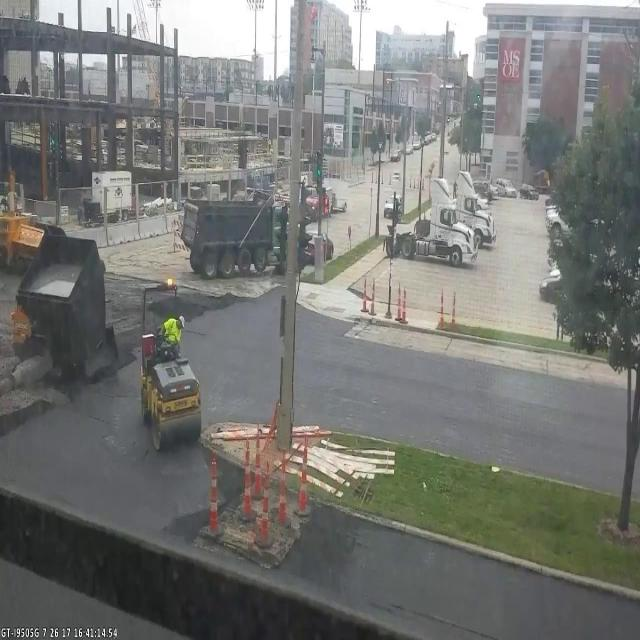dump_truck: (178, 188, 290, 278)
